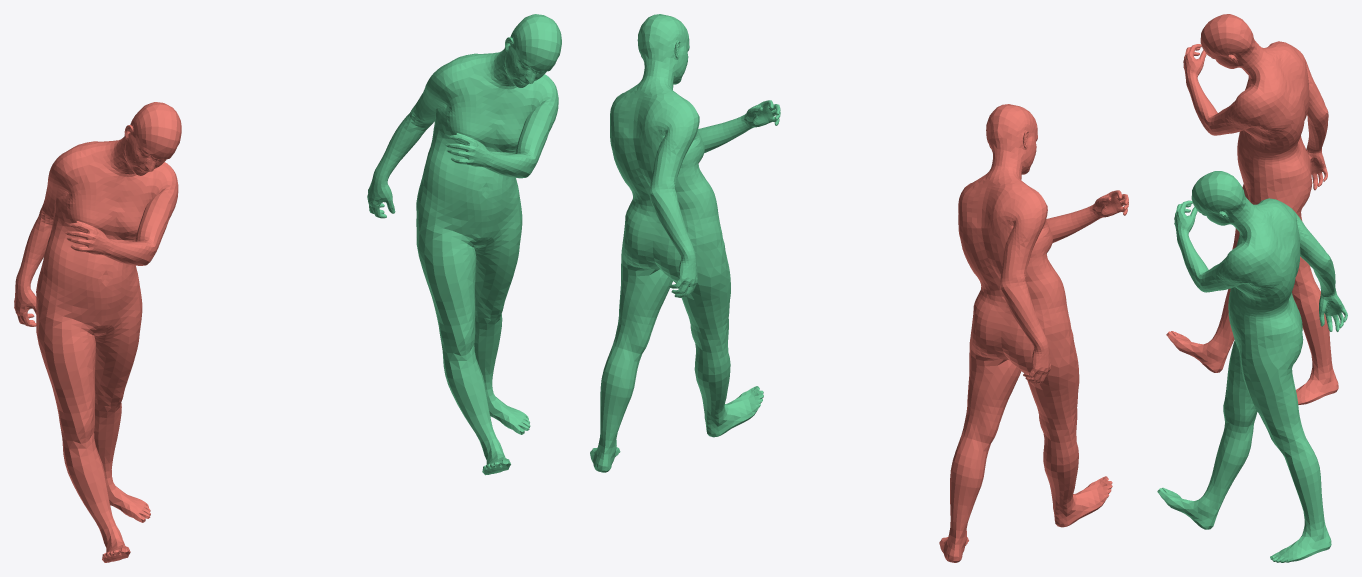
The model's file is pose_087_before_after.glb.
3 views of the same model, side by side, from view 1: azimuth 30°, elevation 25°; view 2: azimuth 150°, elevation 25°; view 3: azimuth 270°, elevation 25° (orthographic). The views are drawn at different scales.
Parts seen in each view (by area): view 1: poseshield_green, input_red; view 2: poseshield_green, input_red; view 3: poseshield_green, input_red.
Part boxes in pixels (x1,y1,x2,y2): poseshield_green: (367, 14, 561, 475); input_red: (14, 102, 181, 562); poseshield_green: (590, 14, 780, 472); input_red: (939, 104, 1128, 562); poseshield_green: (1157, 171, 1347, 562); input_red: (1166, 14, 1338, 404).
Size of what is drawn, in the model's own units: 1.98 by 1.63 by 0.7399.
